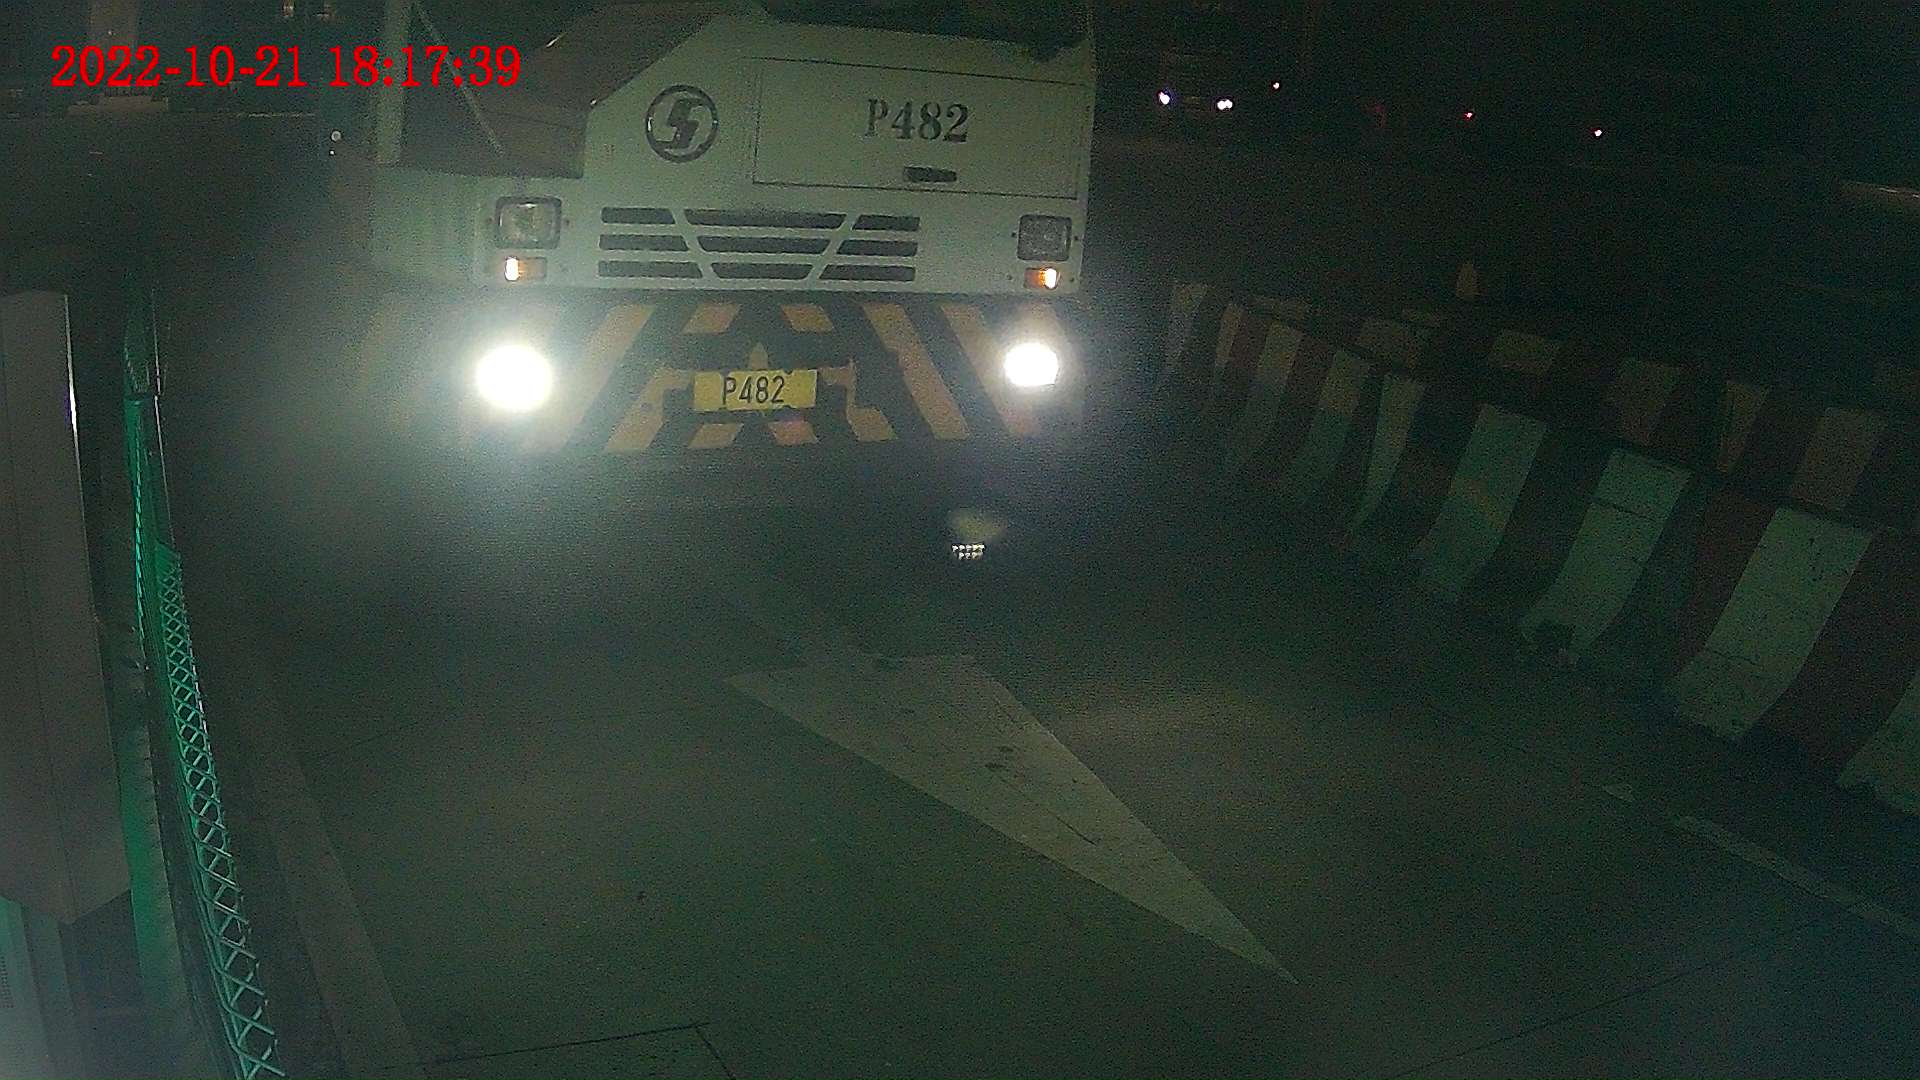head: (307, 1, 1100, 540)
plate: (697, 370, 820, 410)
